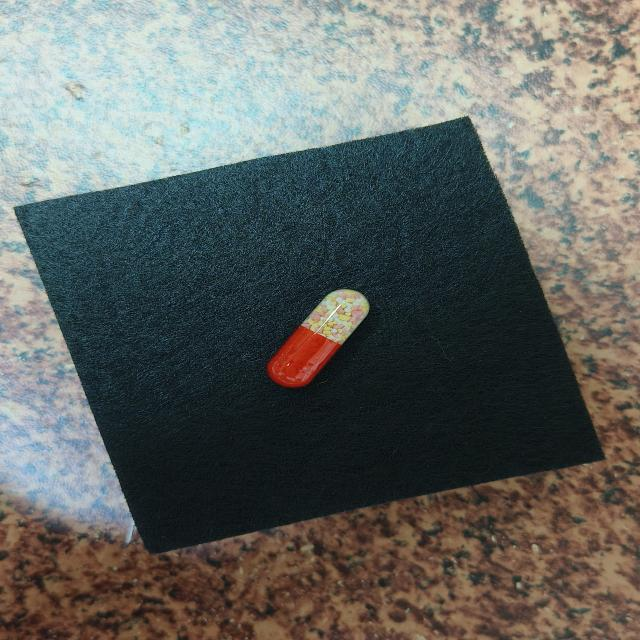Intact Capsule: (267, 289, 370, 387)
